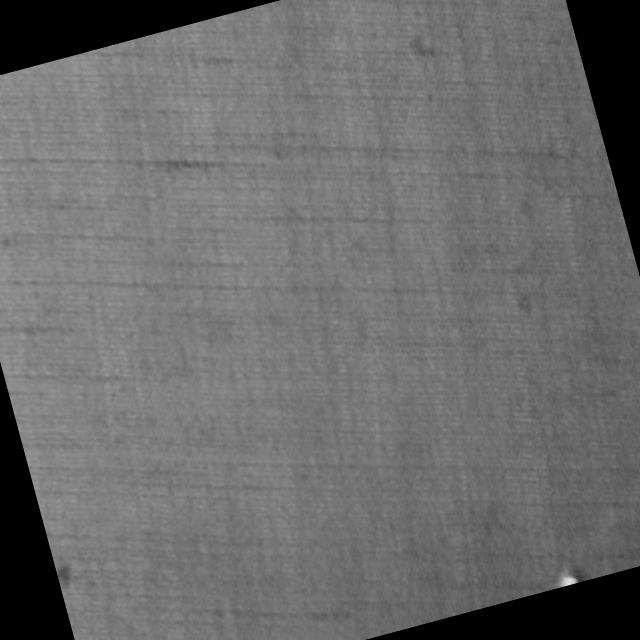hole: (550, 563, 581, 587)
